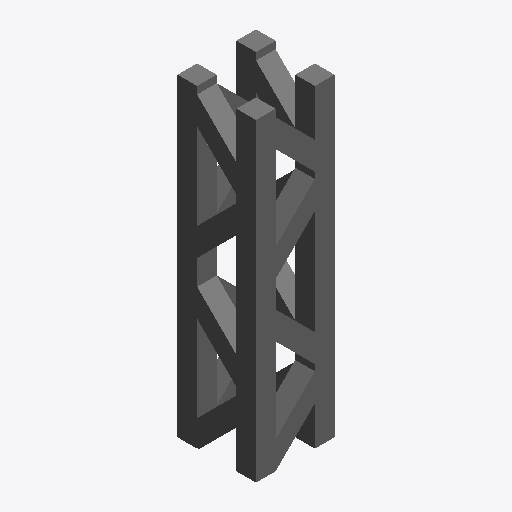
A Minecraft block model of 20 cuboids, rendered isometrically (azimuth 45°, elevation 35.3°) with the resource pack's own textures.
Parts seen in each view (by area): element 2, element 1, element 3, element 19, element 17, element 10, element 6, element 16, element 15, element 4, element 13, element 8 (+4 smaller).
Boxes of the visible parts, x1,y1,x2,y2 form: element 2: [236, 98, 275, 481]; element 1: [177, 64, 216, 447]; element 3: [295, 64, 334, 447]; element 19: [178, 276, 249, 386]; element 17: [186, 83, 249, 194]; element 10: [268, 168, 331, 276]; element 6: [263, 360, 330, 469]; element 16: [238, 49, 294, 127]; element 15: [187, 394, 253, 448]; element 4: [236, 30, 275, 100]; element 13: [181, 203, 249, 258]; element 8: [263, 310, 330, 363].
Size of the model in its own units: 4 by 16 by 4.